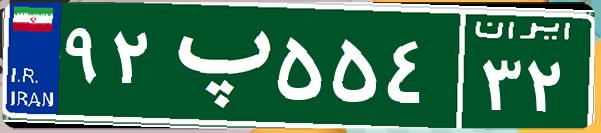2: (110, 28, 158, 105), (525, 38, 570, 115)
3: (475, 38, 525, 113)
4: (385, 28, 445, 110)
5: (273, 28, 330, 110), (330, 28, 385, 110)
9: (57, 26, 110, 107)
پ: (158, 15, 273, 115)
